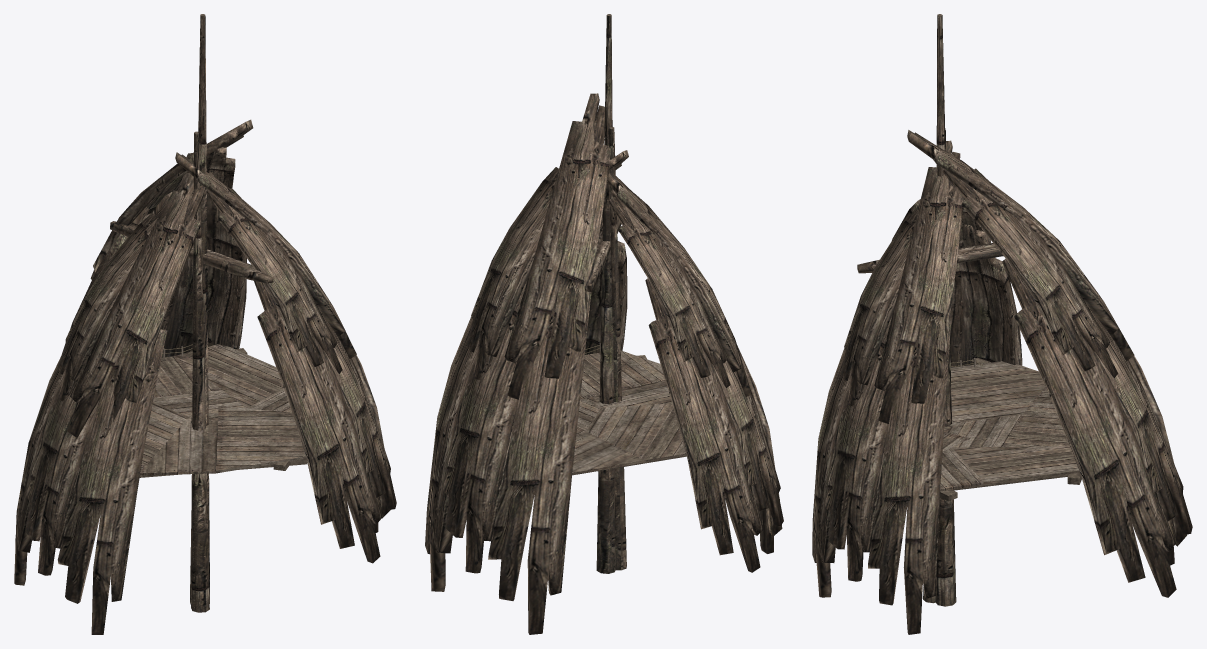
Rendered from d_sg_shouyou_chuan01_qt.FBX.
3 views of the same model, side by side, from view 1: azimuth 30°, elevation 25°; view 2: azimuth 150°, elevation 25°; view 3: azimuth 270°, elevation 25° (orthographic). The views are drawn at different scales.
Parts seen in each view (by area): view 1: d_sg_shouyou_chuan01_qt; view 2: d_sg_shouyou_chuan01_qt; view 3: d_sg_shouyou_chuan01_qt.
Boxes of the visible parts, bbox=[...] form: d_sg_shouyou_chuan01_qt: bbox=[14, 14, 396, 634]; d_sg_shouyou_chuan01_qt: bbox=[425, 14, 783, 634]; d_sg_shouyou_chuan01_qt: bbox=[812, 14, 1192, 634].
Size of the model in its own units: 3105 by 5235 by 3073.
